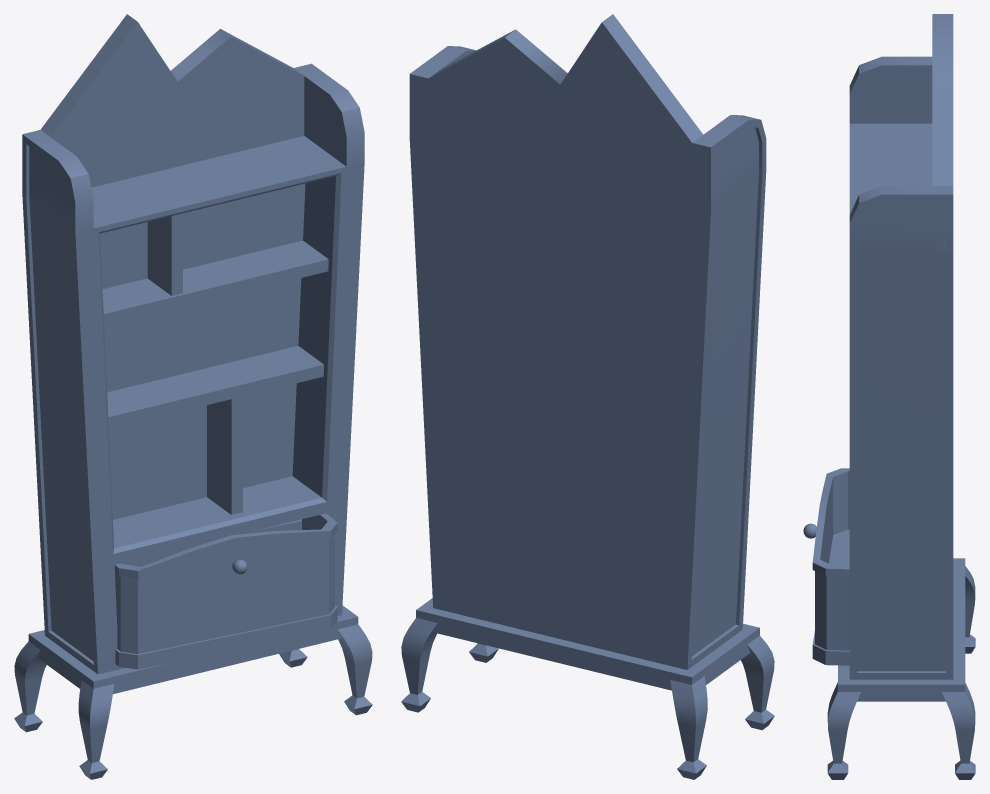
Rendered from BookShelf_Type_02.fbx.
The picture shows the model from 3 angles, left to right: view 1: azimuth 30°, elevation 25°; view 2: azimuth 150°, elevation 25°; view 3: azimuth 270°, elevation 25°; orthographic projection. The views are drawn at different scales.
Visible parts, largest first — view 1: BookShelf_Type_02, Shelf, Wood_Hor_A_01, Wood_Hor_B_01, Wood_Vert_A_01, Wood_Vert_B_01, Leg_D_01, Leg_B_01, Leg_C_01; view 2: BookShelf_Type_02, Leg_C_01, Leg_A_01, Leg_D_01; view 3: BookShelf_Type_02, Shelf, Leg_B_01, Leg_A_01, Leg_C_01.
Boxes of the visible parts, left/top/right/bottom form: BookShelf_Type_02: left=22, top=14, right=364, bottom=693; Shelf: left=114, top=513, right=337, bottom=669; Wood_Hor_A_01: left=107, top=346, right=323, bottom=428; Wood_Hor_B_01: left=102, top=240, right=328, bottom=325; Wood_Vert_A_01: left=207, top=396, right=242, bottom=534; Wood_Vert_B_01: left=147, top=213, right=182, bottom=295; Leg_D_01: left=78, top=680, right=114, bottom=779; Leg_B_01: left=337, top=624, right=372, bottom=715; Leg_C_01: left=14, top=641, right=46, bottom=732; BookShelf_Type_02: left=409, top=14, right=766, bottom=690; Leg_C_01: left=670, top=676, right=707, bottom=779; Leg_A_01: left=401, top=618, right=437, bottom=712; Leg_D_01: left=741, top=635, right=774, bottom=729; BookShelf_Type_02: left=838, top=14, right=965, bottom=701; Shelf: left=803, top=468, right=849, bottom=665; Leg_B_01: left=827, top=682, right=860, bottom=779; Leg_A_01: left=942, top=683, right=975, bottom=779; Leg_C_01: left=965, top=566, right=975, bottom=653.
Bounding box in the file's own units: 211 × 486 × 111.
